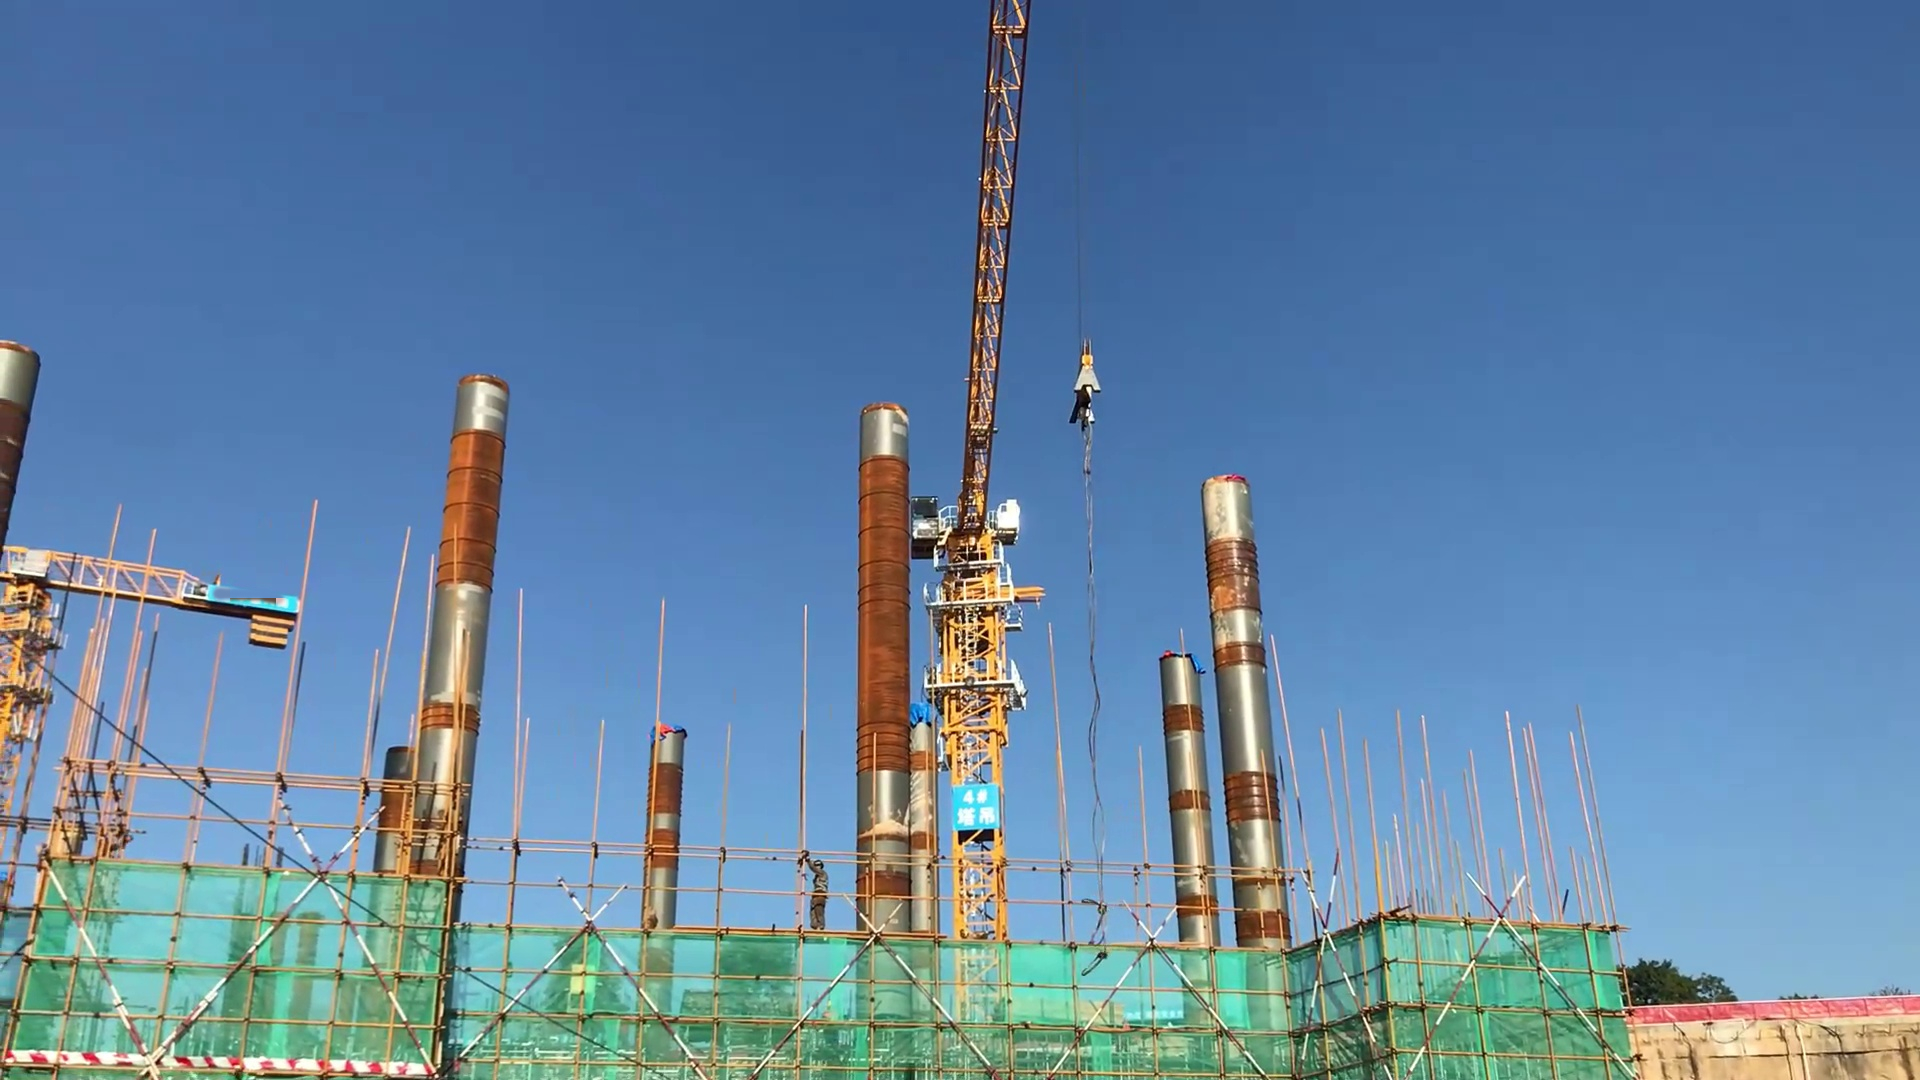helmet: (810, 856, 823, 868)
hook: (1068, 350, 1100, 434)
person: (788, 848, 835, 933)
vest: (808, 875, 829, 896)
